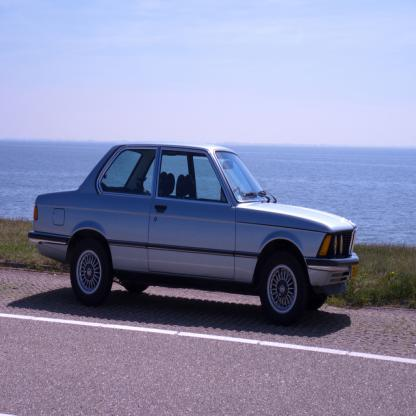Car: (28, 141, 359, 326)
